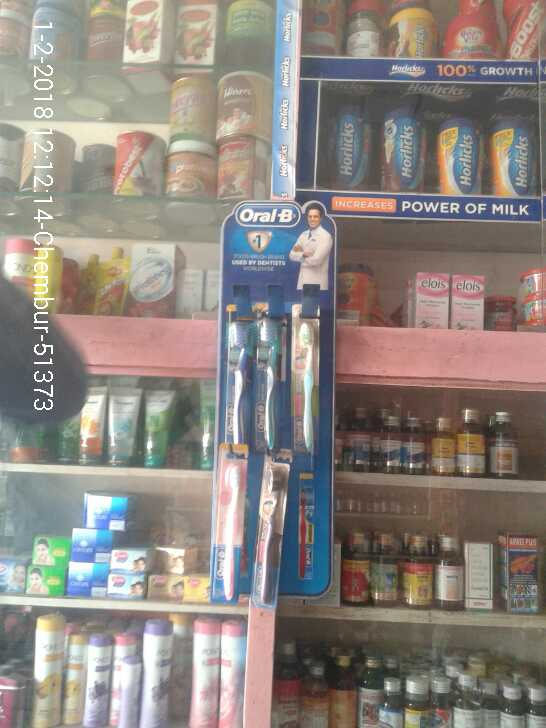oralb: (250, 466, 286, 604), (251, 318, 284, 453), (288, 323, 320, 456), (218, 463, 242, 595), (224, 323, 250, 444)
